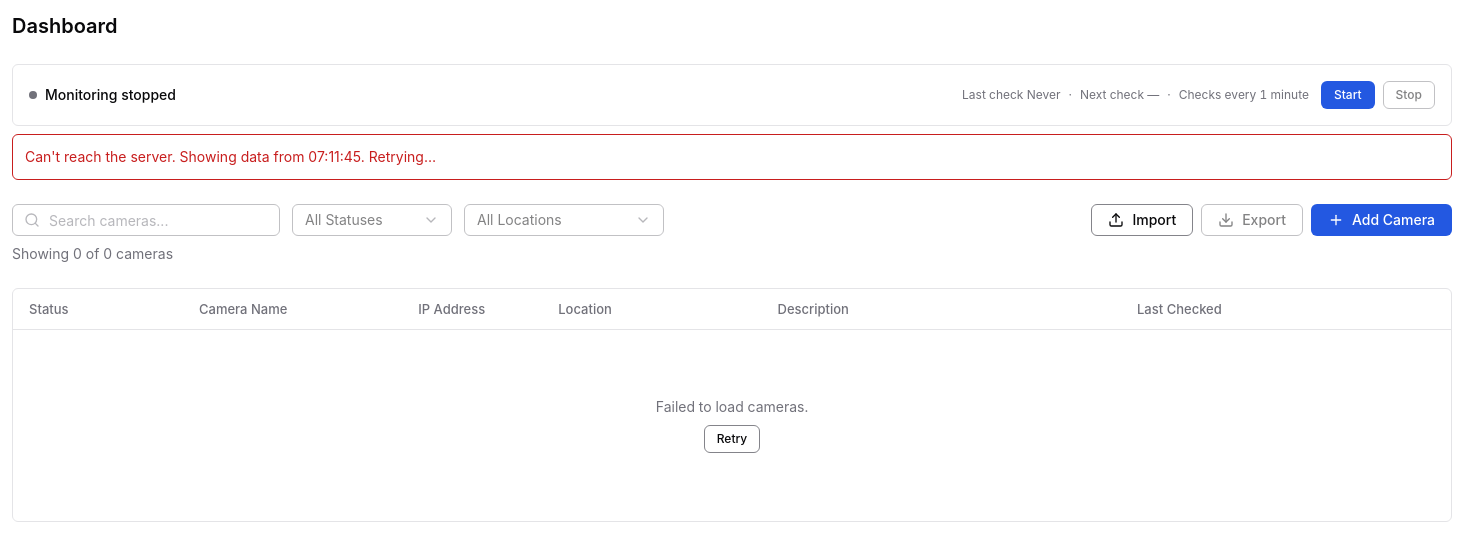
Test: DashboardPage component tests › renders list error state with Retry on empty-body 500, and Retry works when backend recovers
Expected: the cell with test id "error-cameras-state" is shown, [13,329,1451,521]
Expected: the text "Failed to load cameras." is shown, [656,397,808,417]
Click the button with test id "retry-cameras-button" at coordinates (732, 439), box [704,425,760,453]
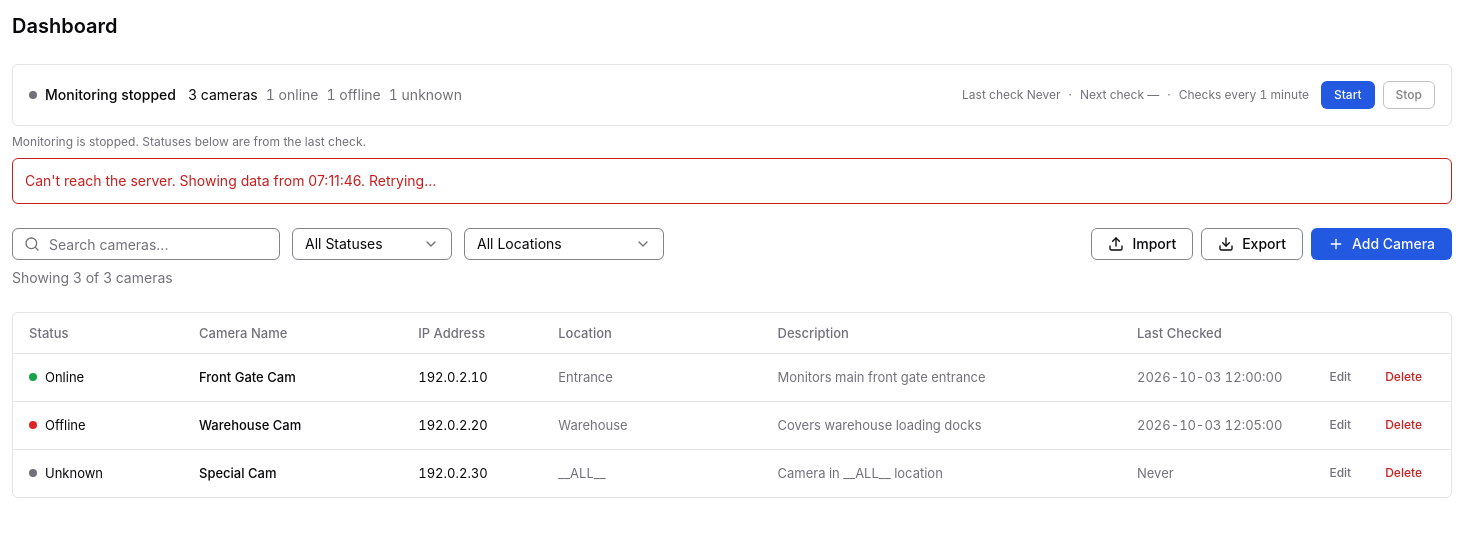
Expected: the text "Front Gate Cam" is shown, [199,369,296,385]
